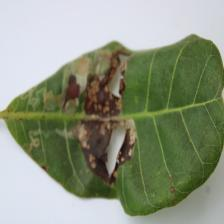leaf miner: (0, 33, 224, 216), (70, 48, 138, 187)
